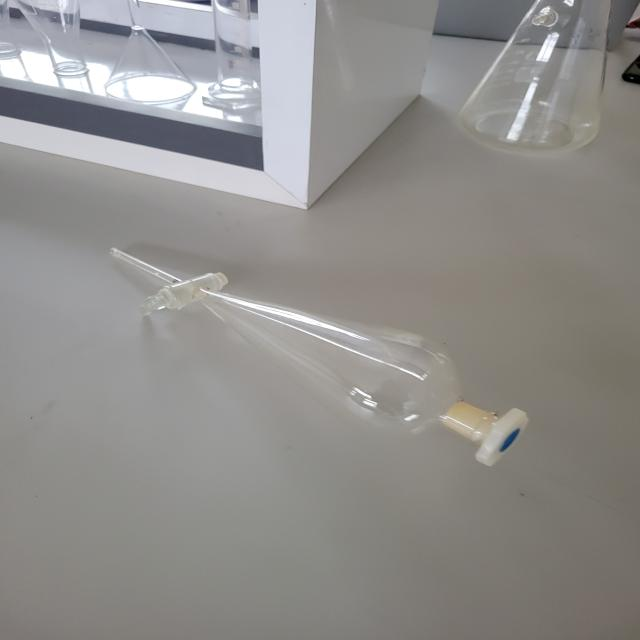Separating_Funnel: (38, 164, 548, 517)
